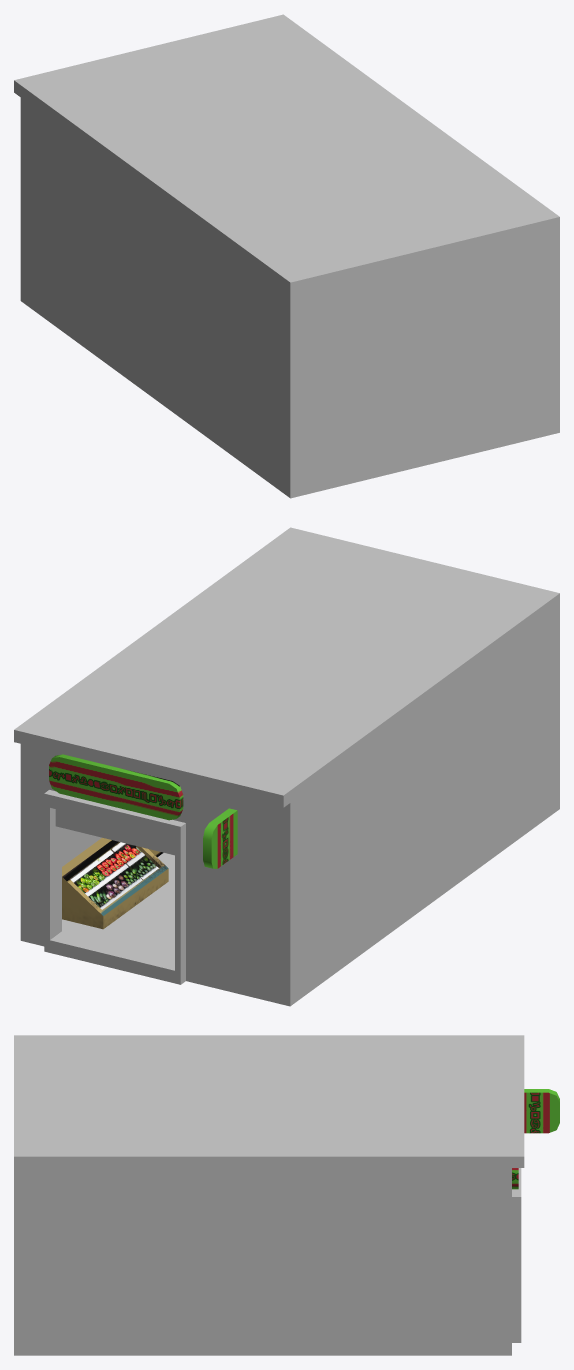
File: GroceryStore.fbx
3 renders of one model, top to bottom at view 1: azimuth 30°, elevation 25°; view 2: azimuth 150°, elevation 25°; view 3: azimuth 270°, elevation 25°, orthographic. The views are drawn at different scales.
Visible parts, largest first — view 1: Shop; view 2: Shop, Cube.014, Cube.021; view 3: Shop, Cube.014.
Boxes of the visible parts, x1,y1,x2,y2 form: Shop: (14, 14, 559, 498); Shop: (14, 527, 559, 1006); Cube.014: (49, 754, 237, 868); Cube.021: (62, 837, 168, 929); Shop: (14, 1035, 524, 1355); Cube.014: (512, 1089, 559, 1189).
Bounding box in the file's own units: 2117 × 1621 × 4024.
